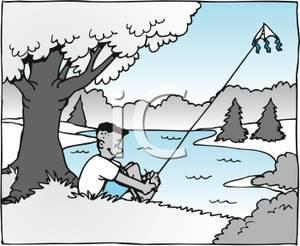person: (74, 120, 160, 205)
